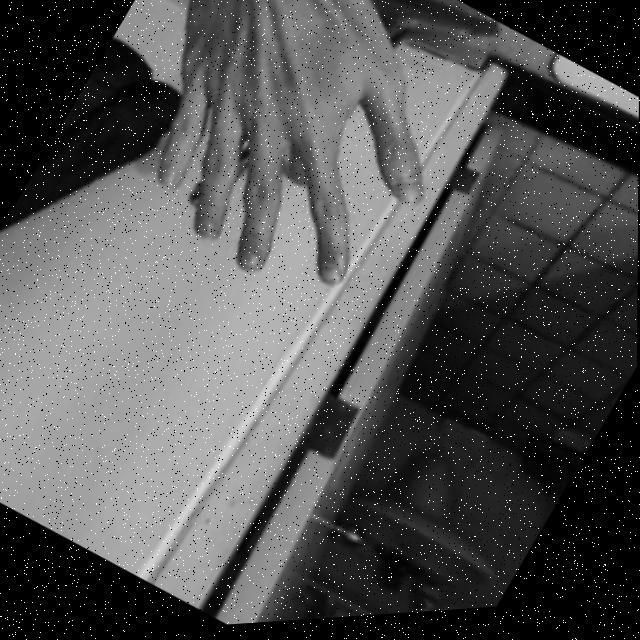no-gloves: (71, 0, 507, 349)
